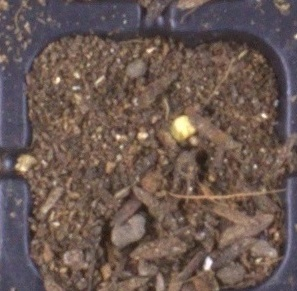chilli seed: (173, 115, 197, 139)
